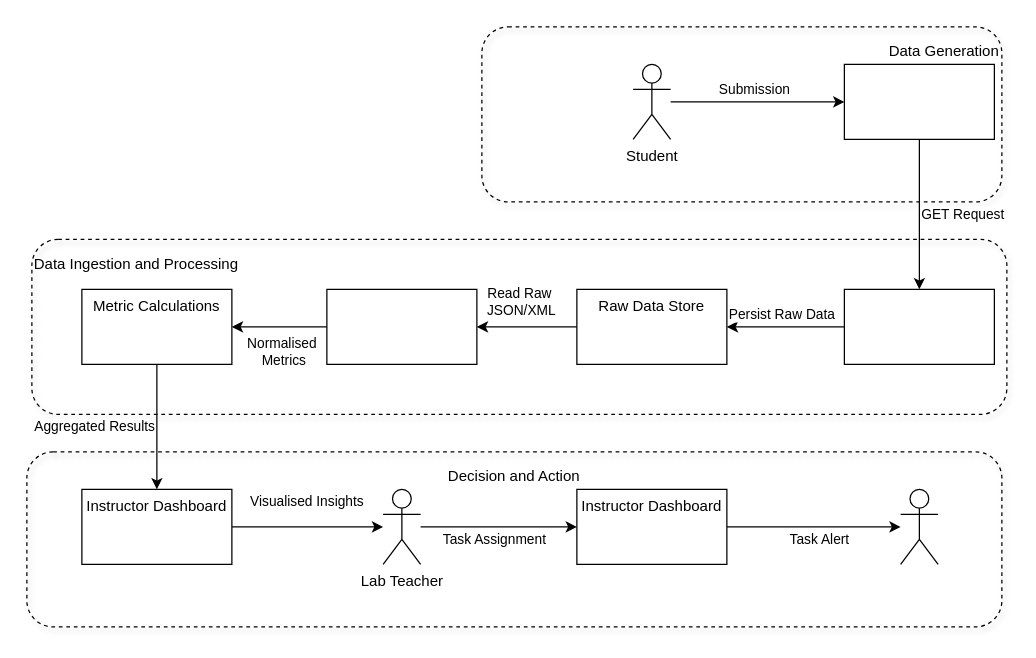
The diagram is 1036 pixels wide and 658 high, and some of its shapes have lost their labels. The shapes that lost their labels are listed below. From the top down, each one's centre as x and y in pixels, then its label:
the point at 918,101: AI Feedback Endpoint
the point at 401,326: Parsing and Normalisation
the point at 918,326: Data sent in integrals every k seconds
the point at 918,526: Lab assistant
